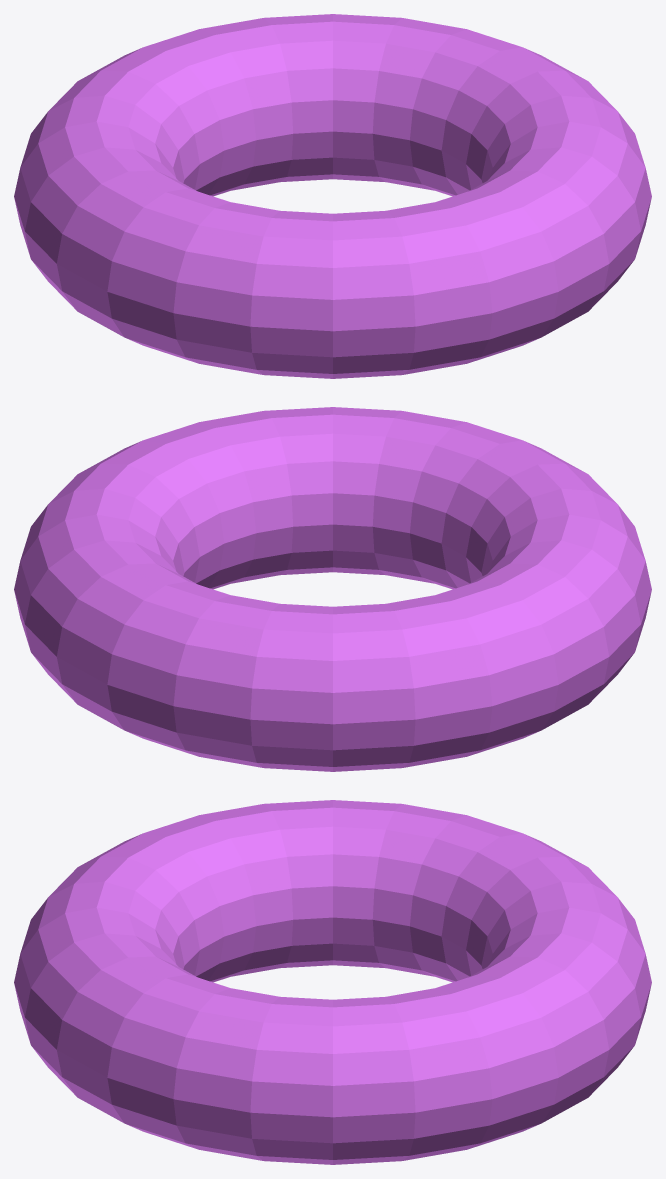
3 renders of one model, top to bottom at view 1: azimuth 30°, elevation 25°; view 2: azimuth 150°, elevation 25°; view 3: azimuth 270°, elevation 25°, orthographic.
Visible parts, largest first — view 1: torus; view 2: torus; view 3: torus.
Boxes of the visible parts, bbox=[...] form: torus: bbox=[14, 14, 651, 378]; torus: bbox=[14, 407, 651, 771]; torus: bbox=[14, 800, 651, 1164].
Bounding box in the file's own units: 2.7 × 0.7 × 2.7.
